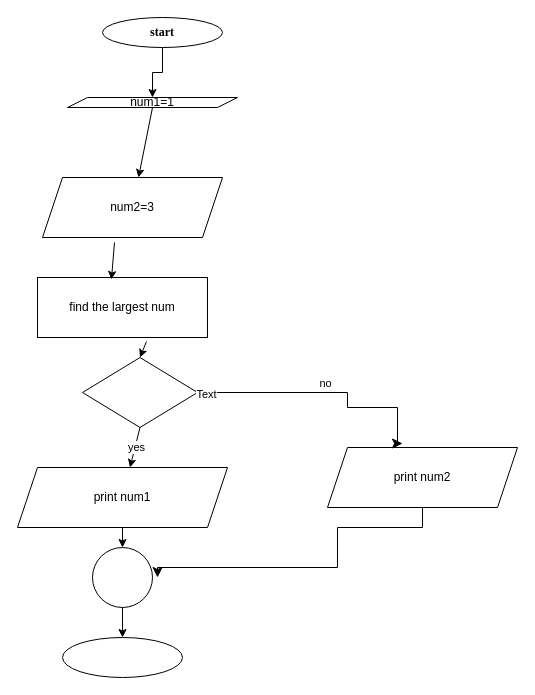
The diagram is 535 pixels wide and 695 high, and some of its shapes have lost their labels. The centre of each missing label's shape, as x and y in pixels:
end: point (122, 657)
if num1>num2: point (140, 392)
